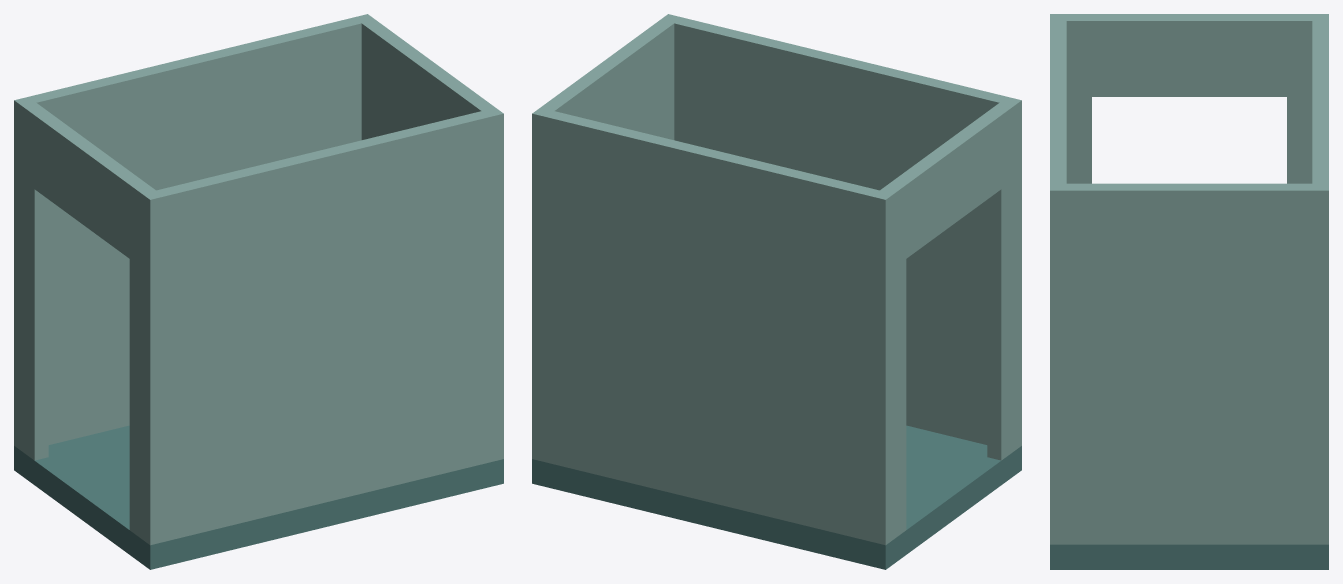
3 renders of one model, left to right at view 1: azimuth 30°, elevation 25°; view 2: azimuth 150°, elevation 25°; view 3: azimuth 270°, elevation 25°, orthographic. The views are drawn at different scales.
Parts seen in each view (by area): view 1: CR (bathroom) south wall end, CR (bathroom) north wall end, CR (bathroom) Floor, CR (bathroom) west wall segment 1, CR (bathroom) east wall end, CR (bathroom) west wall door 1 lintel, CR (bathroom) west wall end; view 2: CR (bathroom) north wall end, CR (bathroom) south wall end, CR (bathroom) Floor, CR (bathroom) west wall end, CR (bathroom) east wall end, CR (bathroom) west wall door 1 lintel, CR (bathroom) west wall segment 1; view 3: CR (bathroom) east wall end, CR (bathroom) west wall door 1 lintel, CR (bathroom) north wall end, CR (bathroom) south wall end, CR (bathroom) Floor, CR (bathroom) west wall end, CR (bathroom) west wall segment 1.
Part boxes in pixels (x1,y1,x2,y2): CR (bathroom) south wall end: [142, 108, 503, 545]; CR (bathroom) north wall end: [14, 14, 374, 451]; CR (bathroom) Floor: [14, 425, 503, 569]; CR (bathroom) west wall segment 1: [14, 97, 48, 460]; CR (bathroom) east wall end: [355, 14, 503, 458]; CR (bathroom) west wall door 1 lintel: [34, 112, 143, 258]; CR (bathroom) west wall end: [129, 181, 164, 544]; CR (bathroom) north wall end: [532, 107, 893, 545]; CR (bathroom) south wall end: [661, 14, 1021, 450]; CR (bathroom) Floor: [532, 425, 1021, 569]; CR (bathroom) west wall end: [987, 97, 1021, 460]; CR (bathroom) east wall end: [532, 15, 680, 459]; CR (bathroom) west wall door 1 lintel: [892, 112, 1001, 258]; CR (bathroom) west wall segment 1: [872, 181, 906, 544]; CR (bathroom) east wall end: [1050, 183, 1328, 544]; CR (bathroom) west wall door 1 lintel: [1092, 14, 1286, 96]; CR (bathroom) north wall end: [1312, 14, 1328, 544]; CR (bathroom) south wall end: [1050, 14, 1066, 544]; CR (bathroom) Floor: [1050, 544, 1328, 569]; CR (bathroom) west wall end: [1050, 14, 1091, 183]; CR (bathroom) west wall segment 1: [1287, 14, 1328, 183].
Size of the model in its own units: 3 by 3 by 2.
